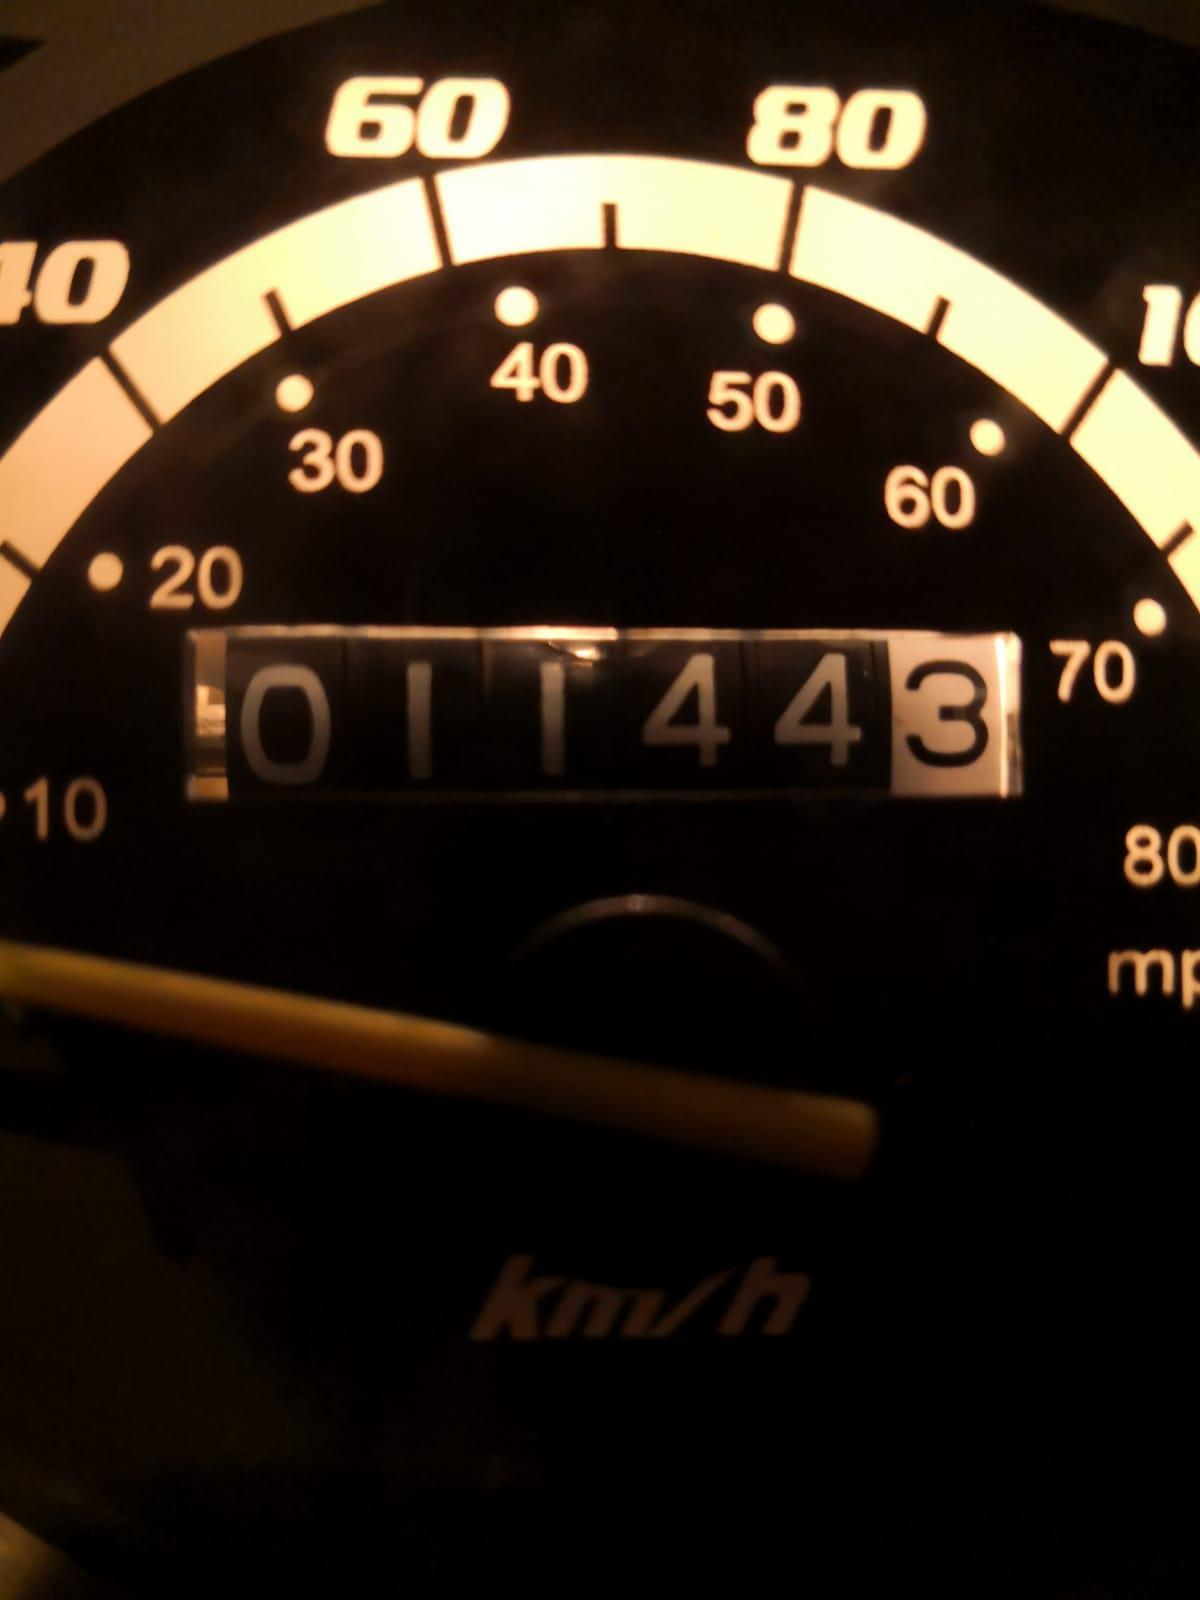0: (232, 656, 334, 784)
1: (393, 653, 444, 784), (526, 653, 576, 780)
3: (903, 660, 995, 775)
4: (638, 649, 735, 772), (775, 649, 868, 770)
odometer: (174, 619, 1041, 811)
